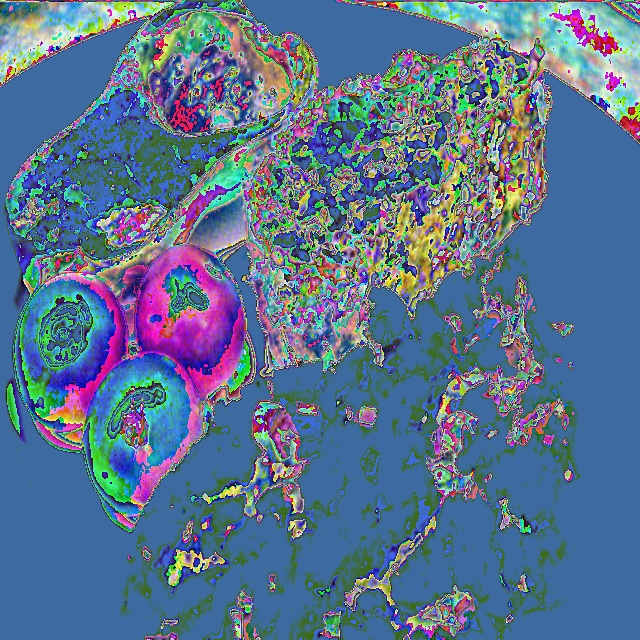background: (3, 0, 594, 640)
